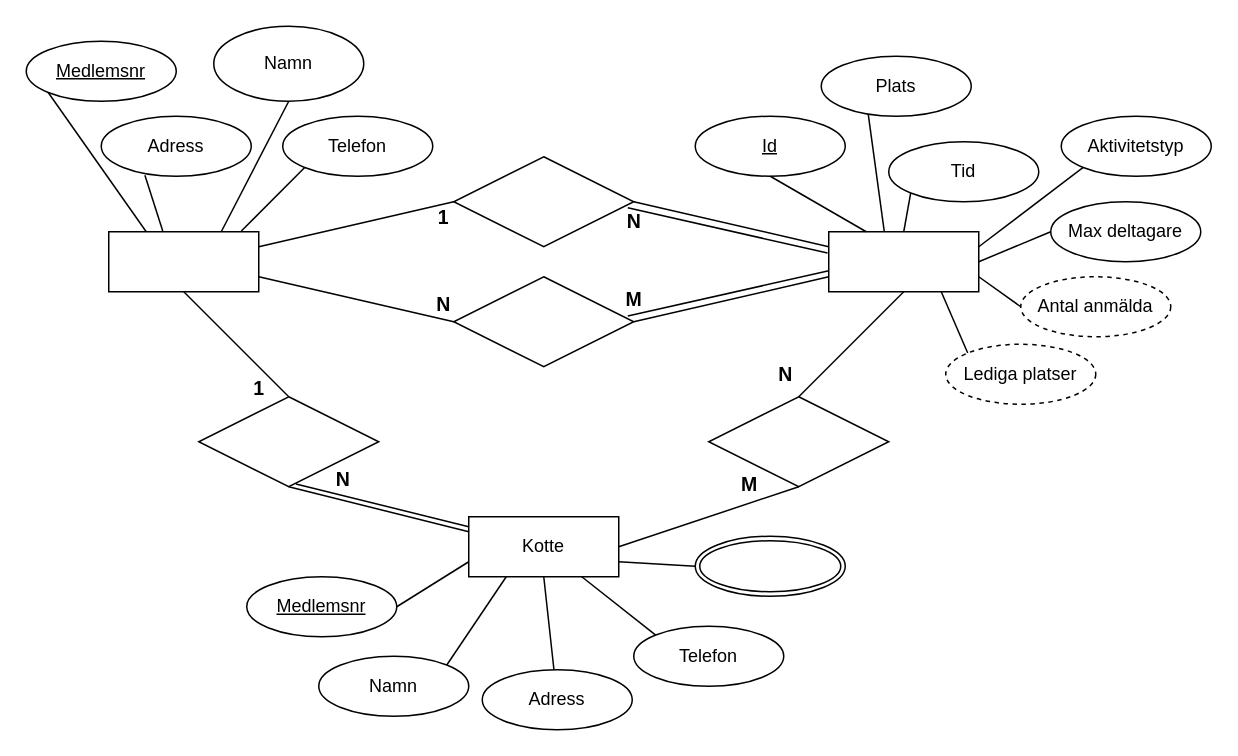
The diagram is 1238 pixels wide and 756 high, and some of its shapes have lost their labels. The box of each missing label's shape, as (x1, y1, x2, y2) in pixels:
Aktivitet: (827, 230, 979, 292)
Anhörig: (694, 535, 845, 596)
Ansvarar för: (452, 155, 634, 247)
Deltar: (707, 395, 889, 487)
Handleder: (197, 395, 379, 487)
Ledare: (107, 230, 259, 292)
Leder: (452, 275, 634, 367)
